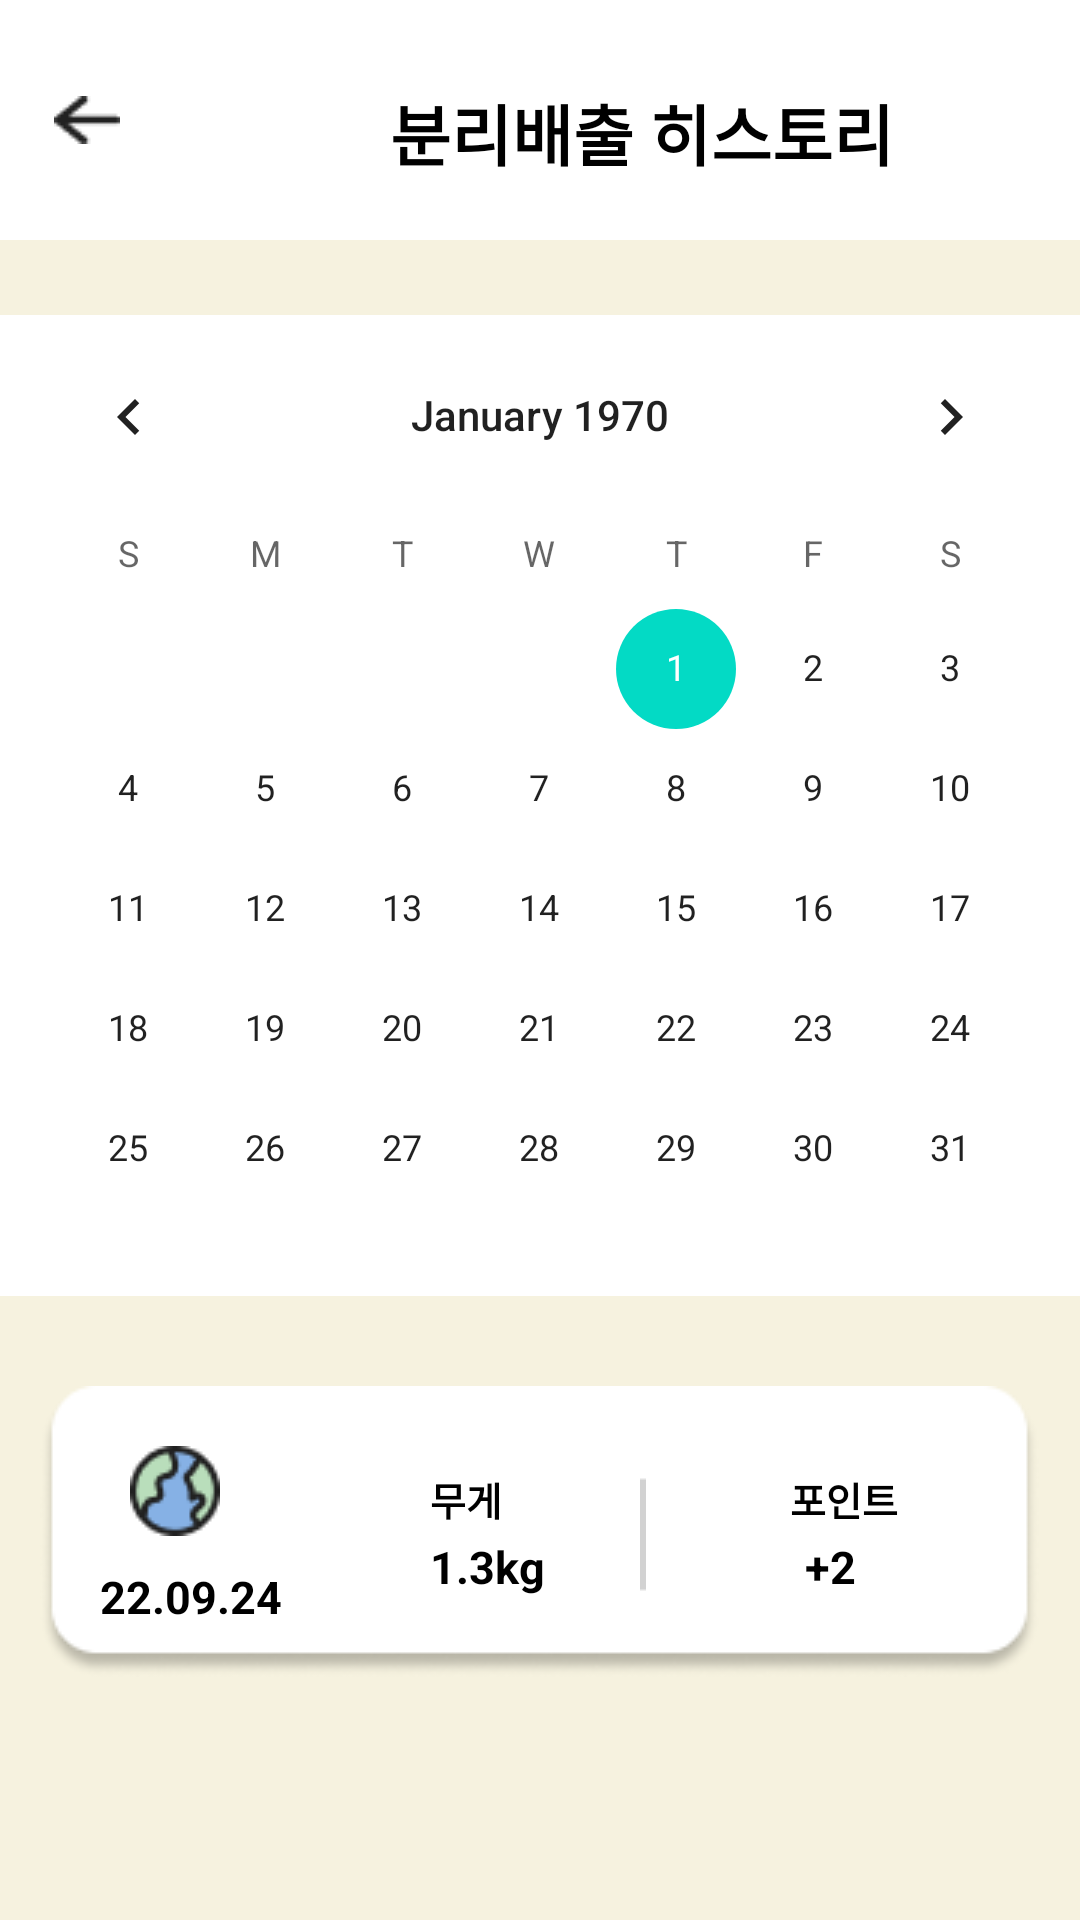

Where icons sit on this 1080×1920 app screen, as (x1, y1, x2, y2):
arrow: (54, 96, 120, 144)
earth: (130, 1446, 220, 1536)
